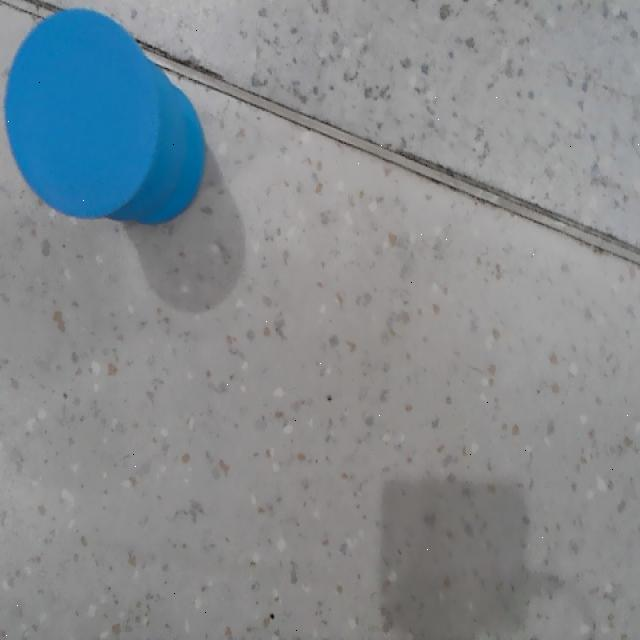b: (5, 10, 158, 220)
